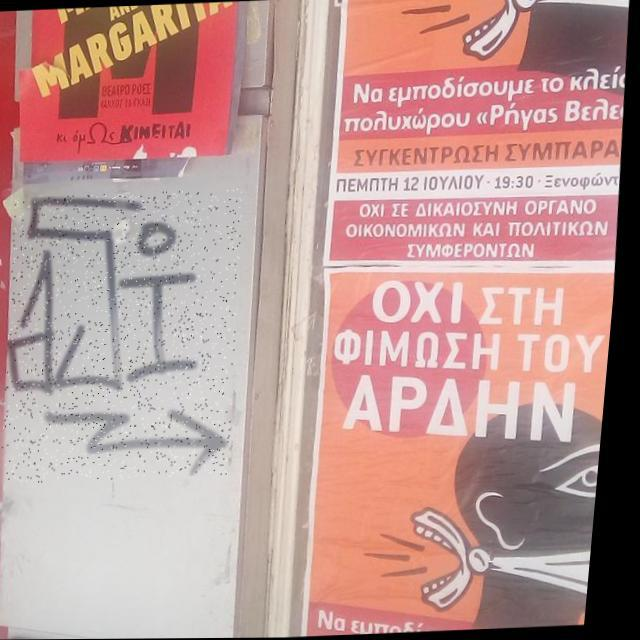-: (0, 188, 256, 484)
